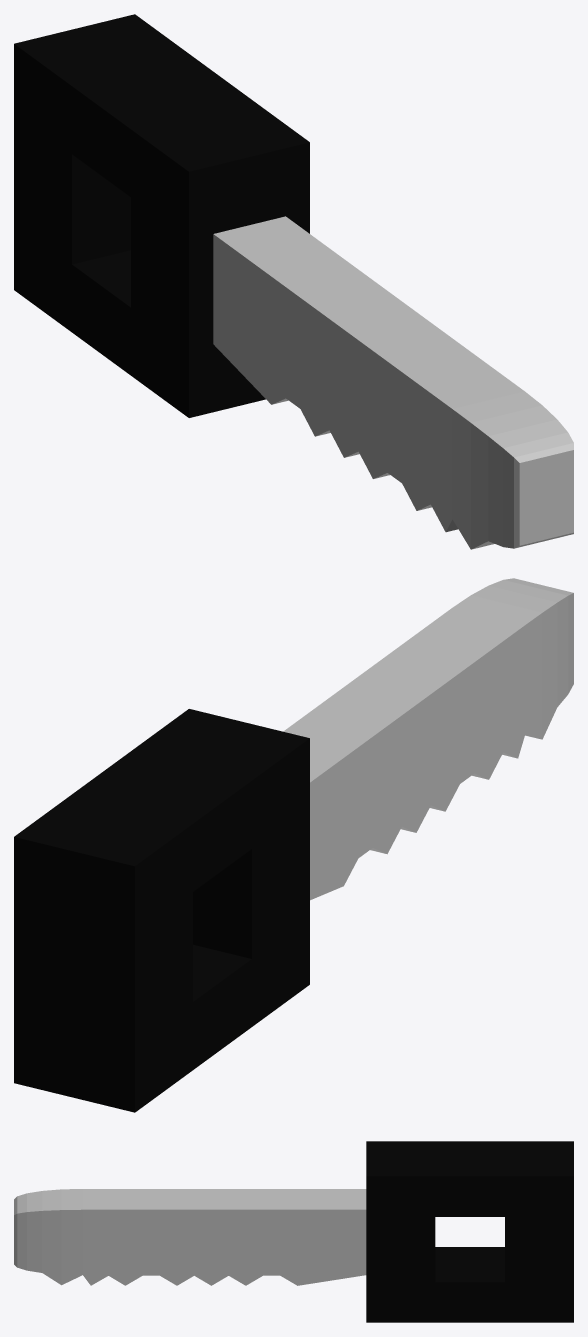
3 renders of one model, top to bottom at view 1: azimuth 30°, elevation 25°; view 2: azimuth 150°, elevation 25°; view 3: azimuth 270°, elevation 25°, orthographic. The views are drawn at different scales.
Visible parts, largest first — view 1: Key; view 2: Key; view 3: Key.
Part boxes in pixels (x1,y1,x2,y2): Key: [14, 14, 573, 549]; Key: [14, 578, 573, 1112]; Key: [14, 1141, 573, 1322].
Bounding box in the file's own units: 55.91 × 109 × 378.
